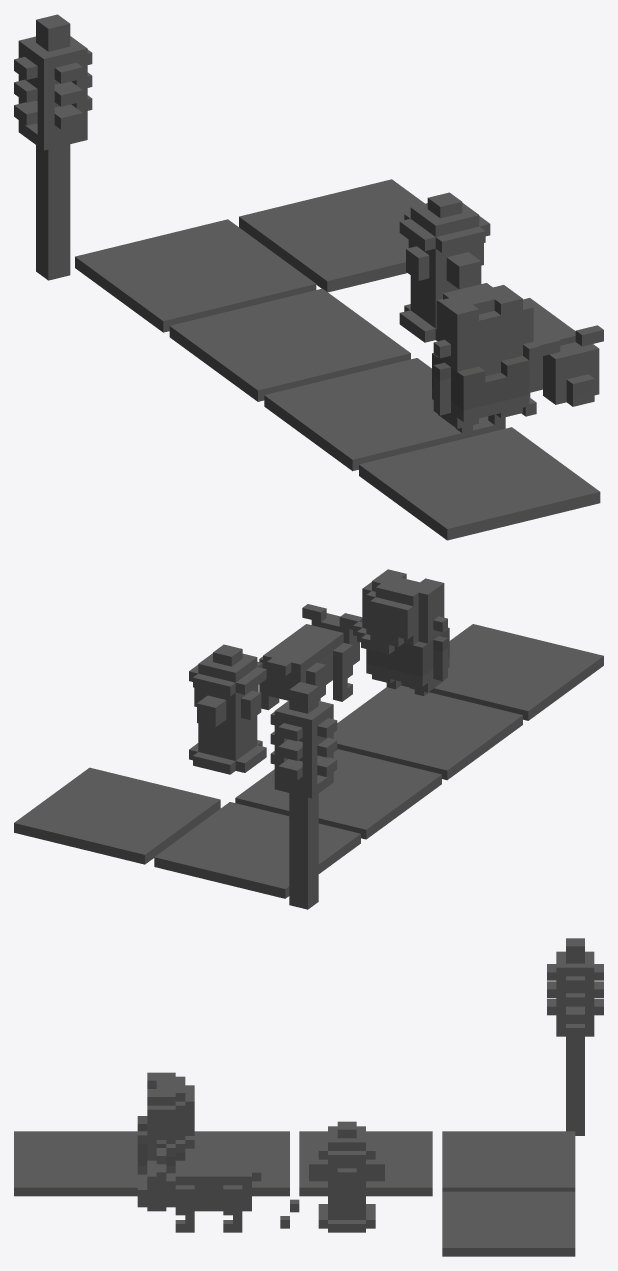
The model's file is scene_corner.obj.
3 renders of one model, top to bottom at view 1: azimuth 30°, elevation 25°; view 2: azimuth 150°, elevation 25°; view 3: azimuth 270°, elevation 25°, orthographic. The views are drawn at different scales.
Bounding box in the file's own units: 34 × 22 × 62.
